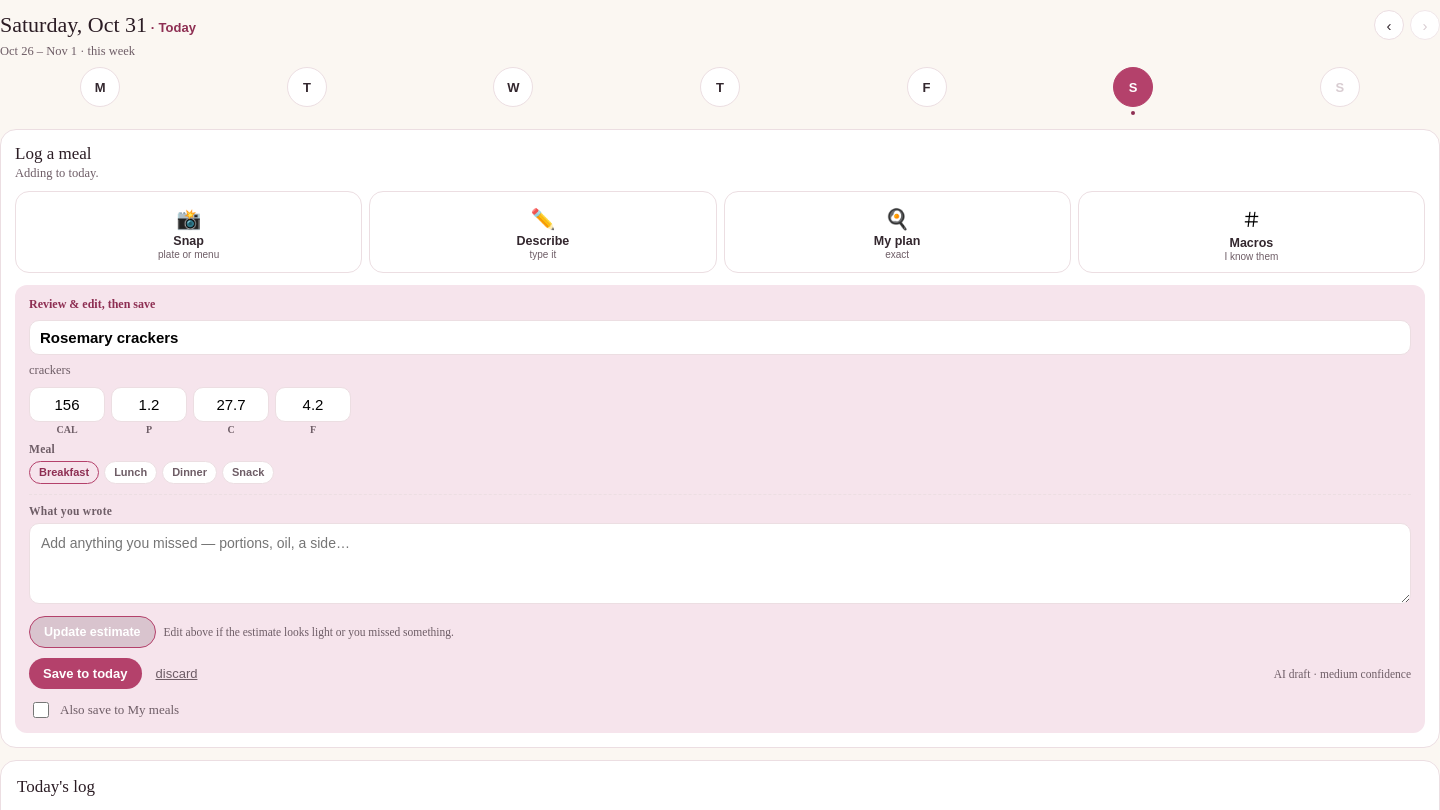
Test: MealLogCard estimate Save to today › rounds decimal estimate overrides before the meal_logs write
Click the button "Save to today" at (85, 674), box [29,658,142,689]
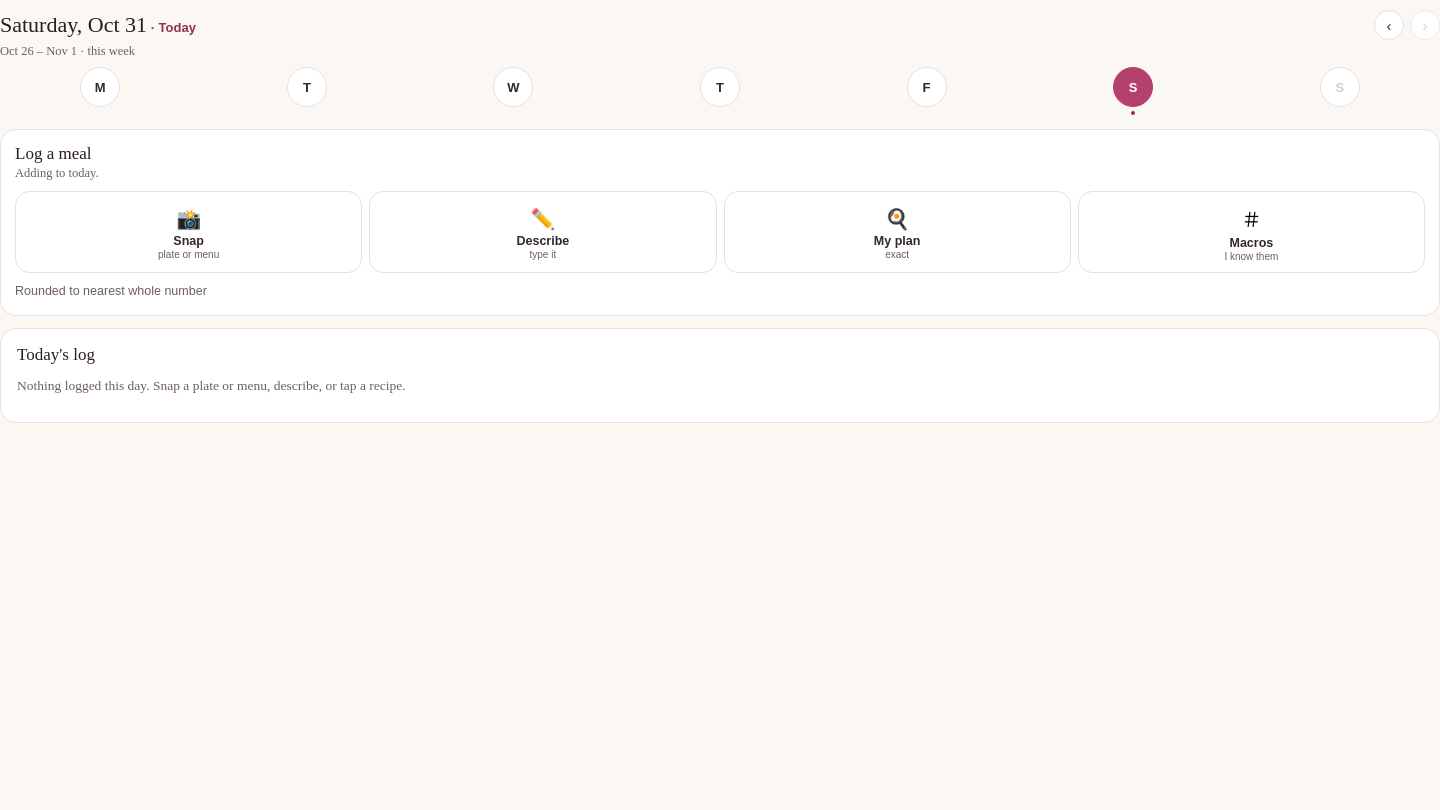
Expected: the text "Rounded to nearest whole number" is shown, [15,284,207,298]
